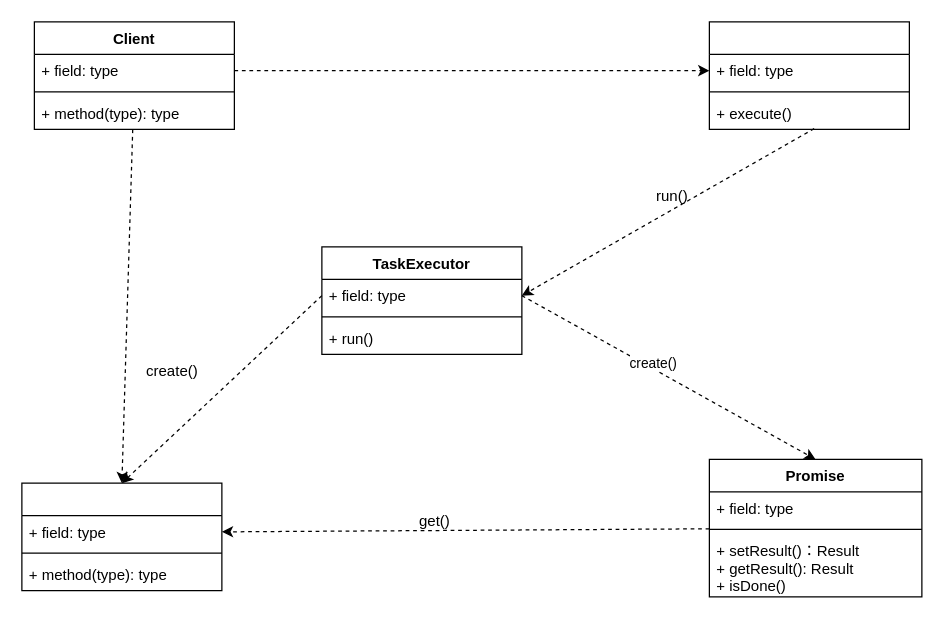
Some shapes in this 944 by 623 pixel diagram are drawn without their labels. Each missing label, with the box of its shape:
Promisor: (708, 21, 909, 129)
Result: (21, 482, 222, 591)
